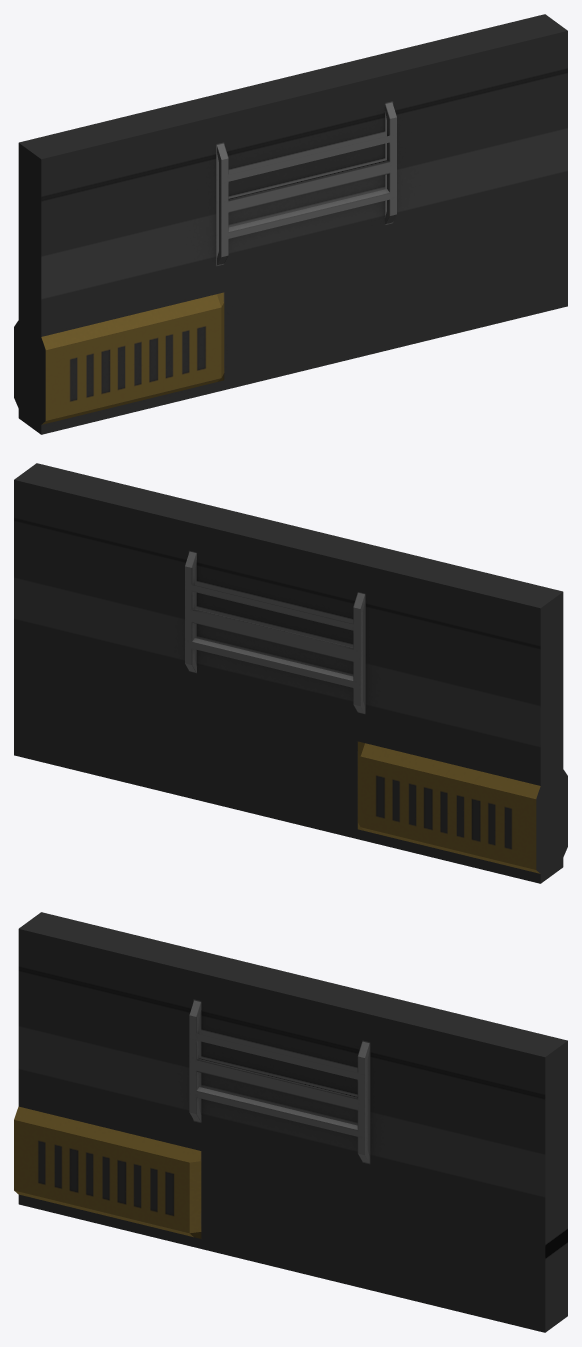
File: Wall_08.fbx
3 views of the same model, one above another, from view 1: azimuth 30°, elevation 25°; view 2: azimuth 150°, elevation 25°; view 3: azimuth 330°, elevation 25° (orthographic).
Parts seen in each view (by area): view 1: Wall_08 Low Poly; view 2: Wall_08 Low Poly; view 3: Wall_08 Low Poly.
Part boxes in pixels (<box>): Wall_08 Low Poly: <box>14,14,567,434</box>; Wall_08 Low Poly: <box>14,463,567,883</box>; Wall_08 Low Poly: <box>14,912,567,1332</box>.
Size of the model in its own units: 400 by 200 by 42.15.
1 material, 1 textured.
